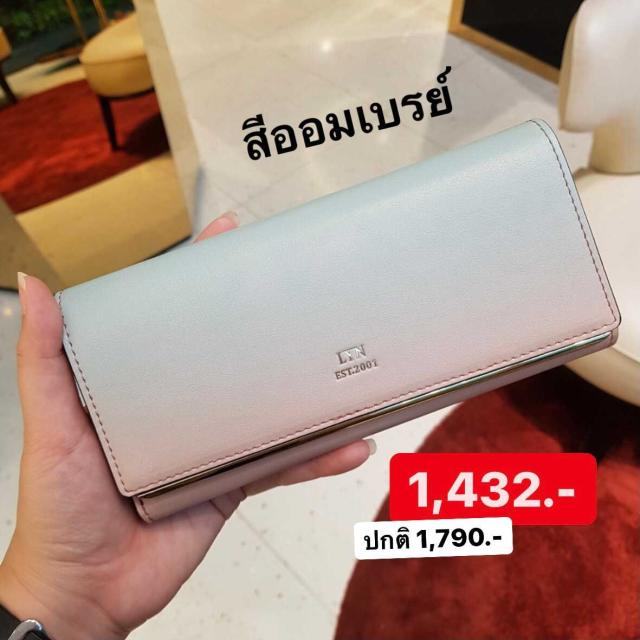handbag: (49, 109, 626, 535)
